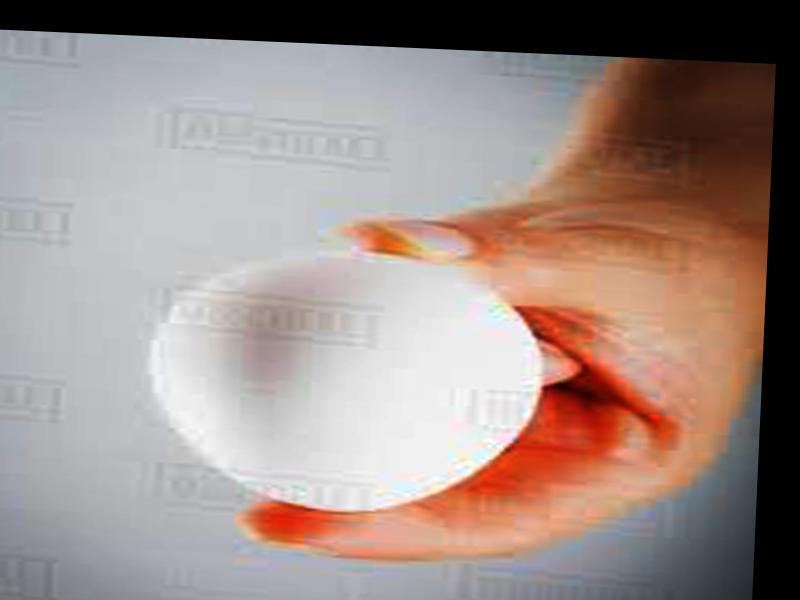Eggs: (144, 247, 544, 520)
